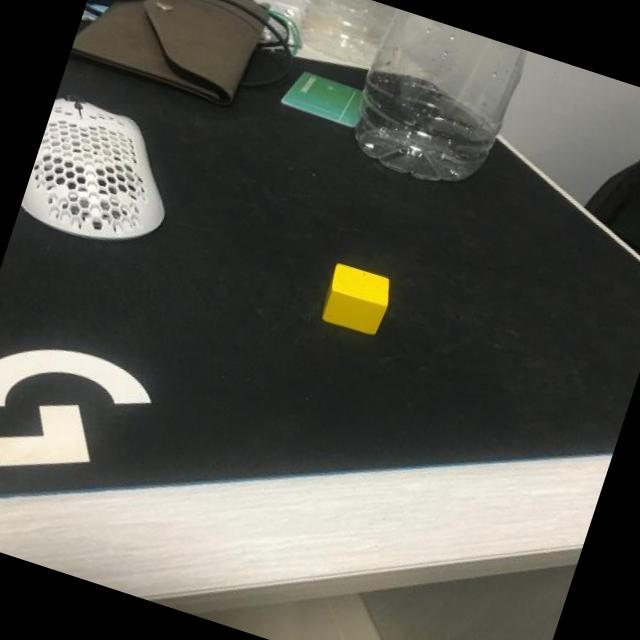yellow: (316, 261, 397, 340)
